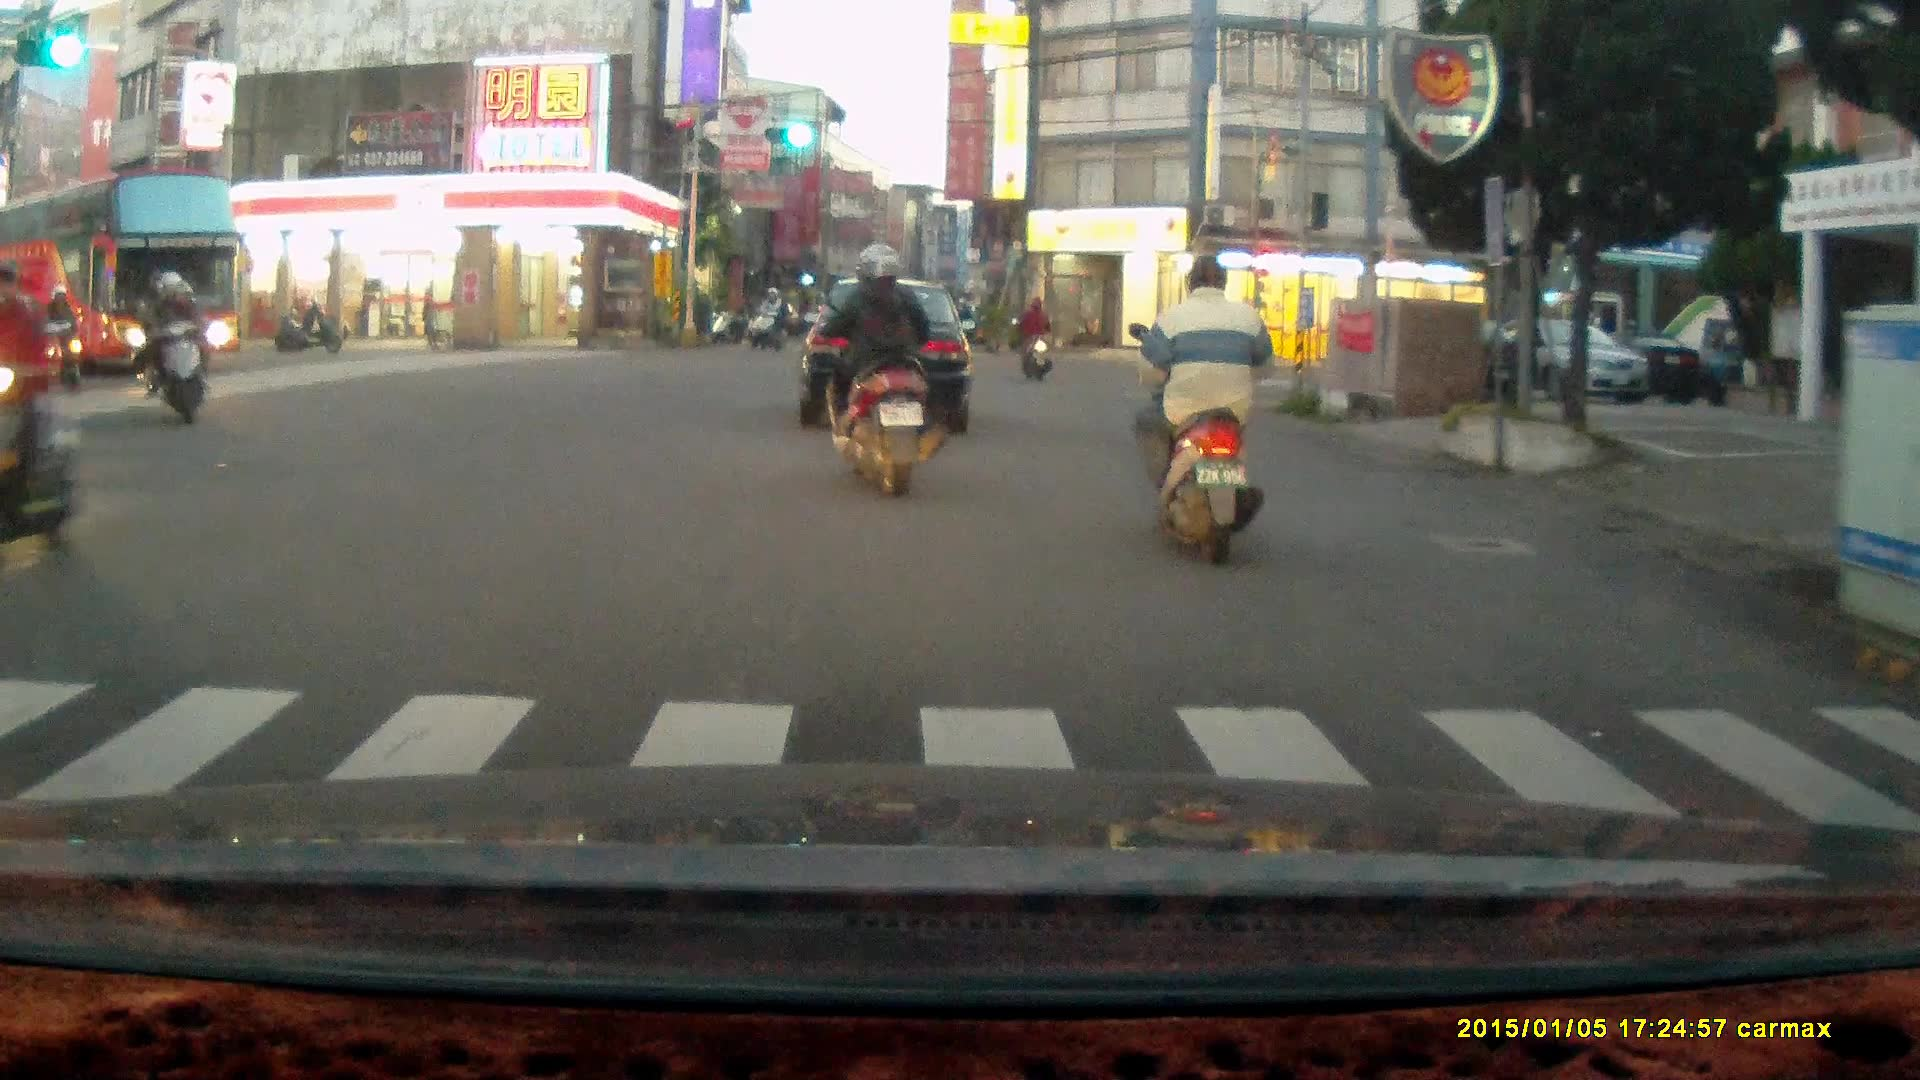rider: (1128, 250, 1272, 562), (812, 236, 952, 503), (0, 263, 78, 559), (138, 267, 207, 425), (38, 282, 84, 385), (1009, 296, 1054, 383), (751, 286, 784, 350)
vehicle: (1, 174, 240, 376), (1442, 313, 1653, 401)
